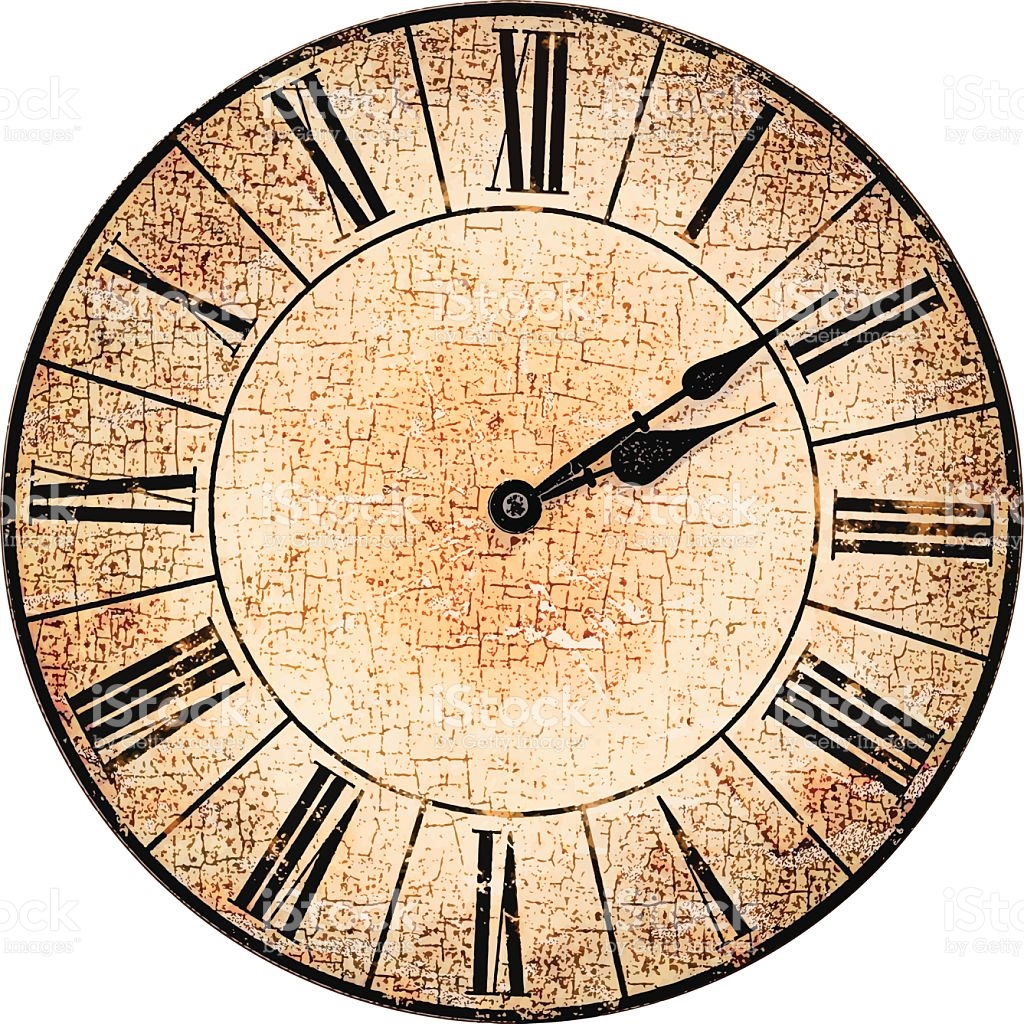clock: (3, 1, 1024, 1019)
